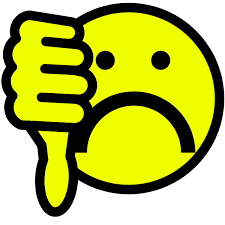thumbs_up: (60, 48, 157, 169)
